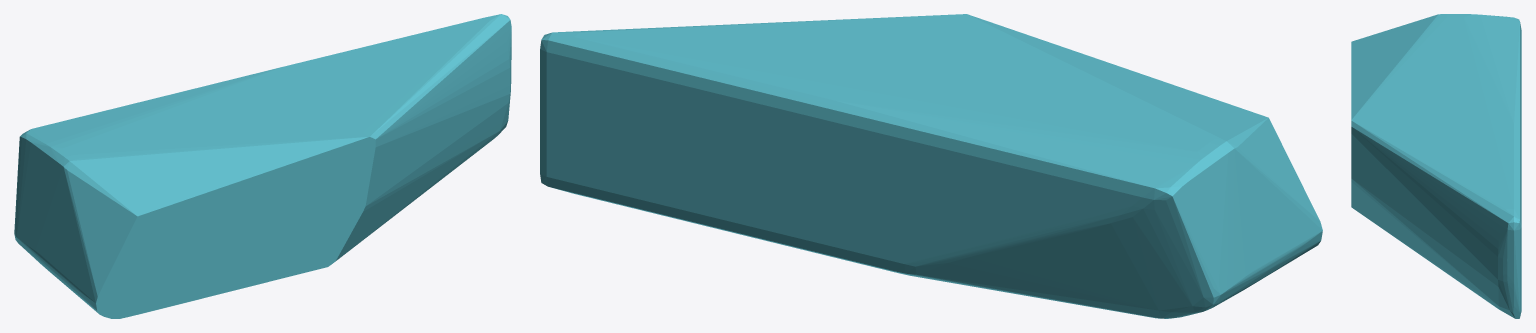
File: left-tarsus-0_part_2.obj
The picture shows the model from 3 angles, left to right: view 1: azimuth 30°, elevation 25°; view 2: azimuth 150°, elevation 25°; view 3: azimuth 270°, elevation 25°; orthographic projection. The views are drawn at different scales.
Size of the model in its own units: 0.1142 by 0.0261 by 0.0381.
